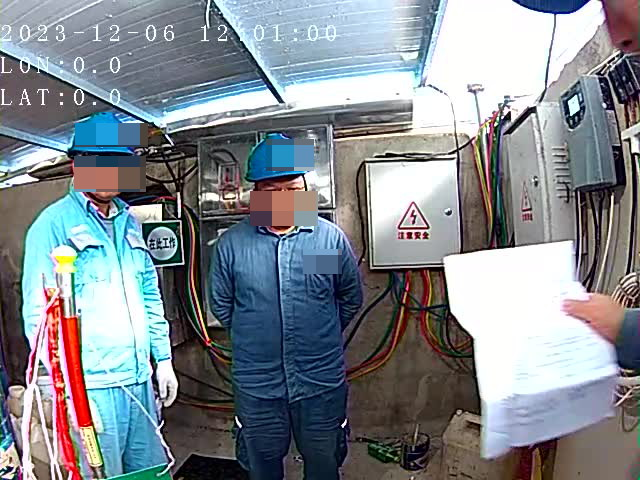downsuit: (233, 365, 352, 480), (65, 389, 169, 480)
halt: (244, 134, 317, 231), (68, 104, 132, 197)
hand: (547, 280, 624, 343)
inear: (61, 154, 100, 196)
person: (17, 105, 181, 480), (208, 131, 369, 480)
upsuit: (21, 180, 170, 387), (206, 212, 353, 389)
wglove: (153, 356, 178, 406)
worksign: (136, 220, 188, 266)
